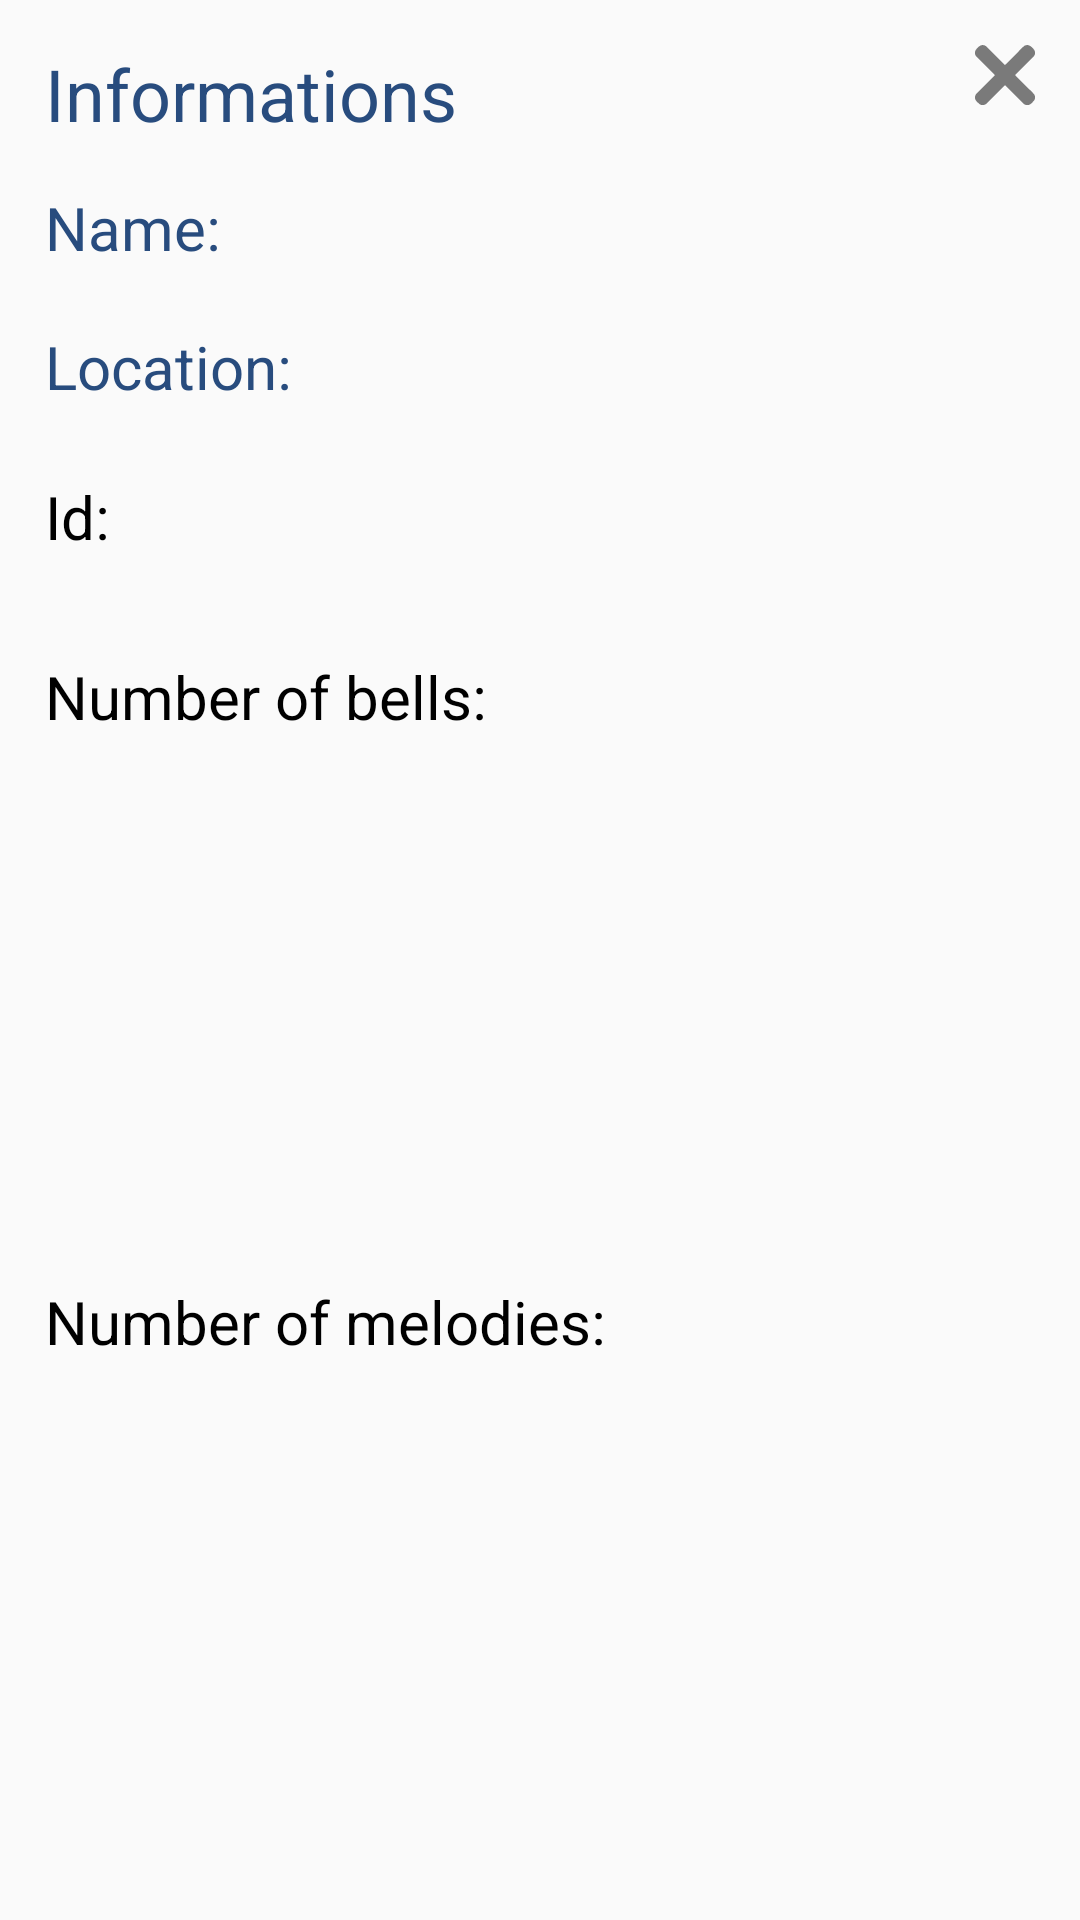

Icons on this 1080w x 1920h Android screen, each with the point to tap as [x,y]:
close: [1005,75]
